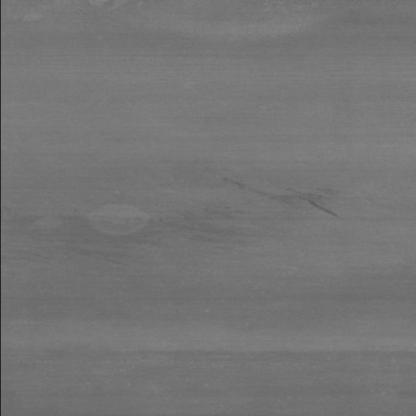water_spot: (198, 173, 366, 221)
